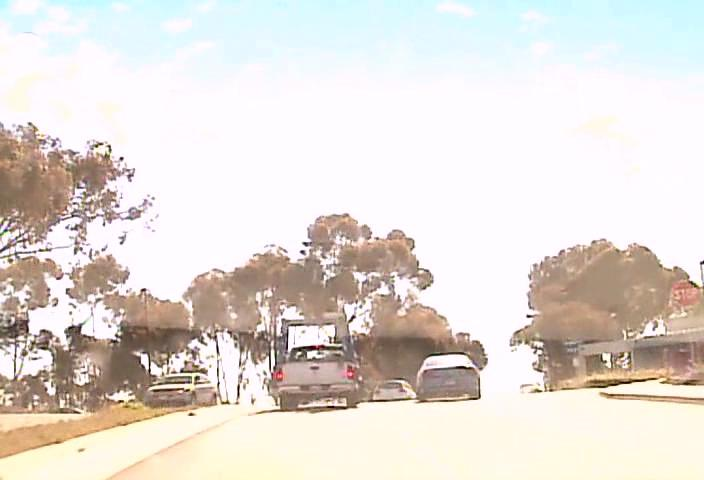stop: (671, 279, 700, 307)
